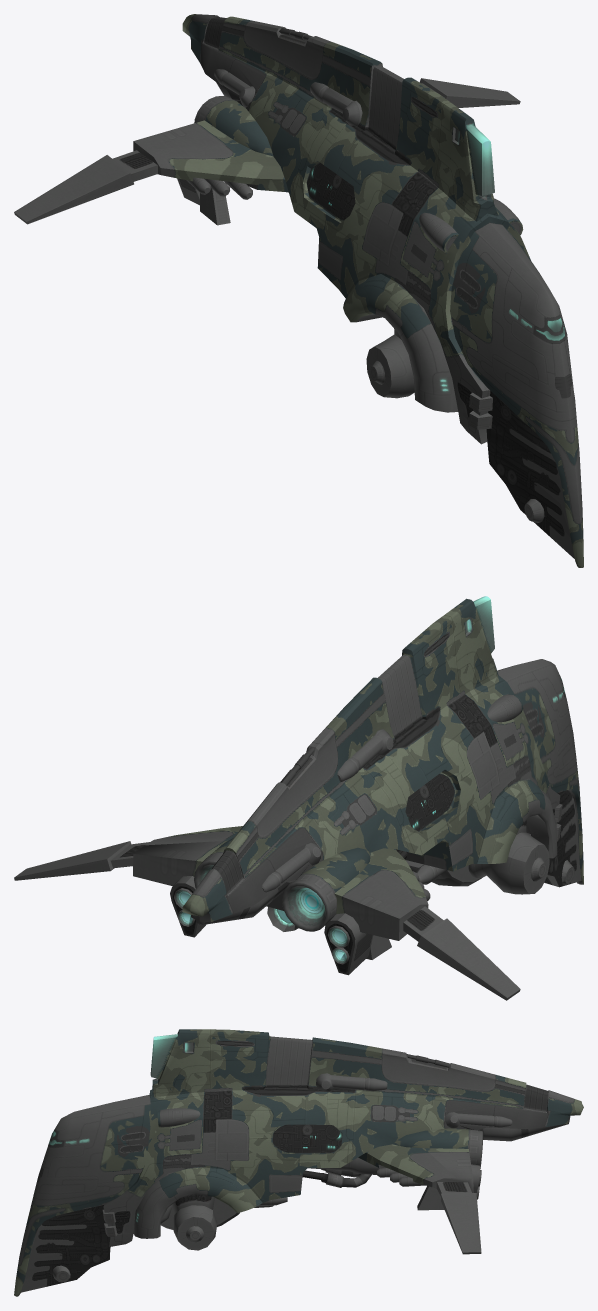
File: 17841_lite.glb
3 renders of one model, top to bottom at view 1: azimuth 30°, elevation 25°; view 2: azimuth 150°, elevation 25°; view 3: azimuth 270°, elevation 25°, orthographic. The views are drawn at different scales.
Visible parts, largest first — view 1: ship; view 2: ship; view 3: ship.
Boxes of the visible parts, left/top/right/bottom form: ship: left=14, top=14, right=583, bottom=567; ship: left=14, top=596, right=583, bottom=1000; ship: left=14, top=1029, right=583, bottom=1296.
Size of the model in its own units: 0.4953 by 0.3514 by 0.6826.
Materials: 1 (1 with a texture image).
